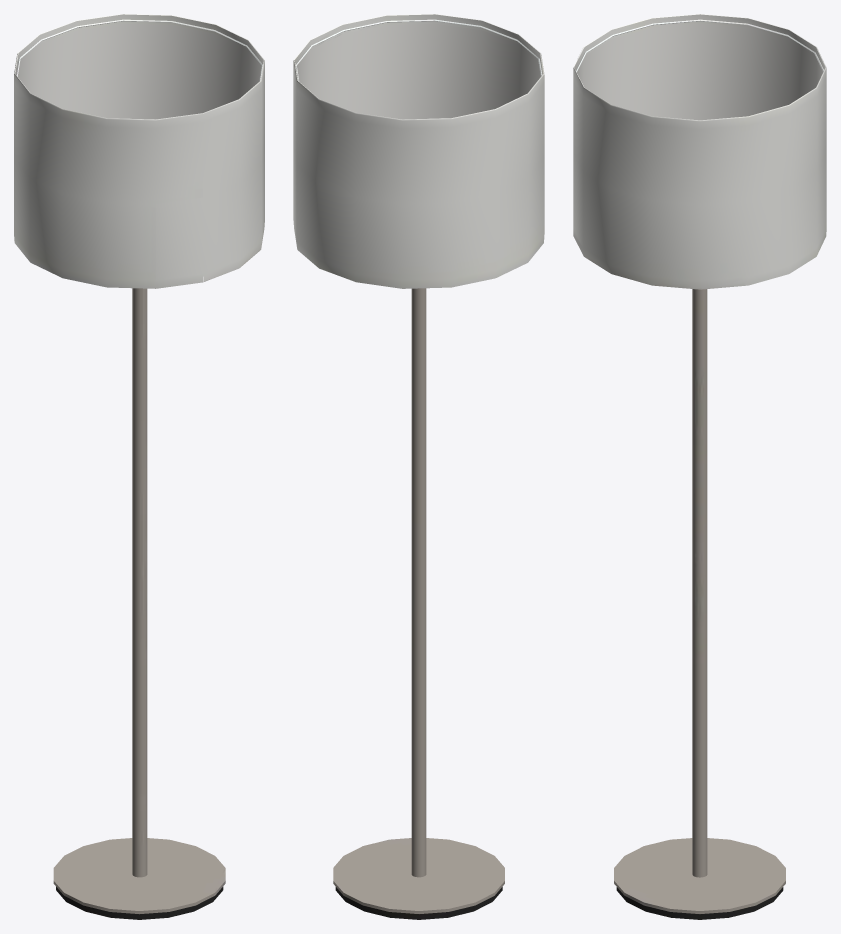
The picture shows the model from 3 angles, left to right: view 1: azimuth 30°, elevation 25°; view 2: azimuth 150°, elevation 25°; view 3: azimuth 270°, elevation 25°; orthographic projection.
Visible parts, largest first — view 1: Mesh_0; view 2: Mesh_0; view 3: Mesh_0.
Boxes of the visible parts, bbox=[...] form: Mesh_0: bbox=[14, 14, 264, 919]; Mesh_0: bbox=[293, 14, 544, 919]; Mesh_0: bbox=[573, 14, 826, 919].
Bounding box in the file's own units: 0.4209 × 1.5 × 0.4218.
Materials: 1 (1 with a texture image).
